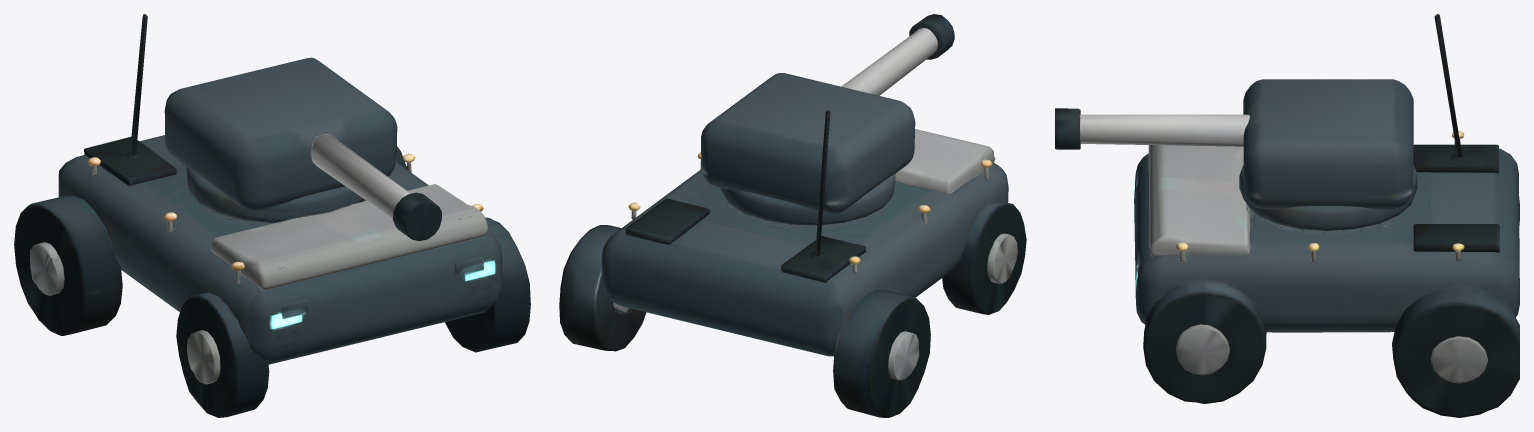
The model's file is scout-buggy.glb.
3 views of the same model, side by side, from view 1: azimuth 30°, elevation 25°; view 2: azimuth 150°, elevation 25°; view 3: azimuth 270°, elevation 25° (orthographic). The views are drawn at different scales.
Bounding box in the file's own units: 0.8281 × 0.6875 × 1.
1 material, 1 textured.
